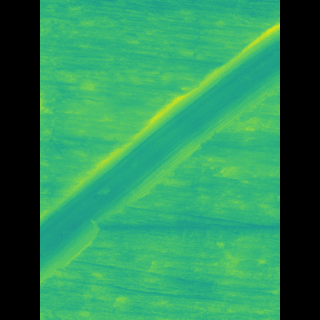Loch: (69, 22, 251, 285)
